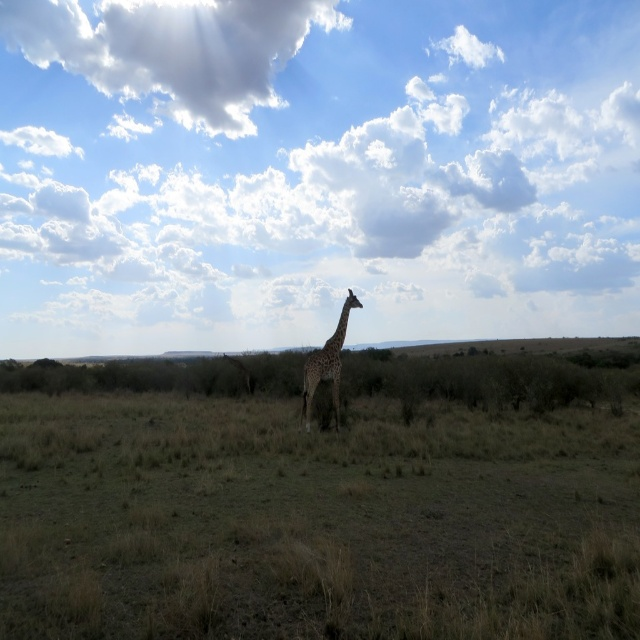Giraffe: (298, 287, 364, 433)
